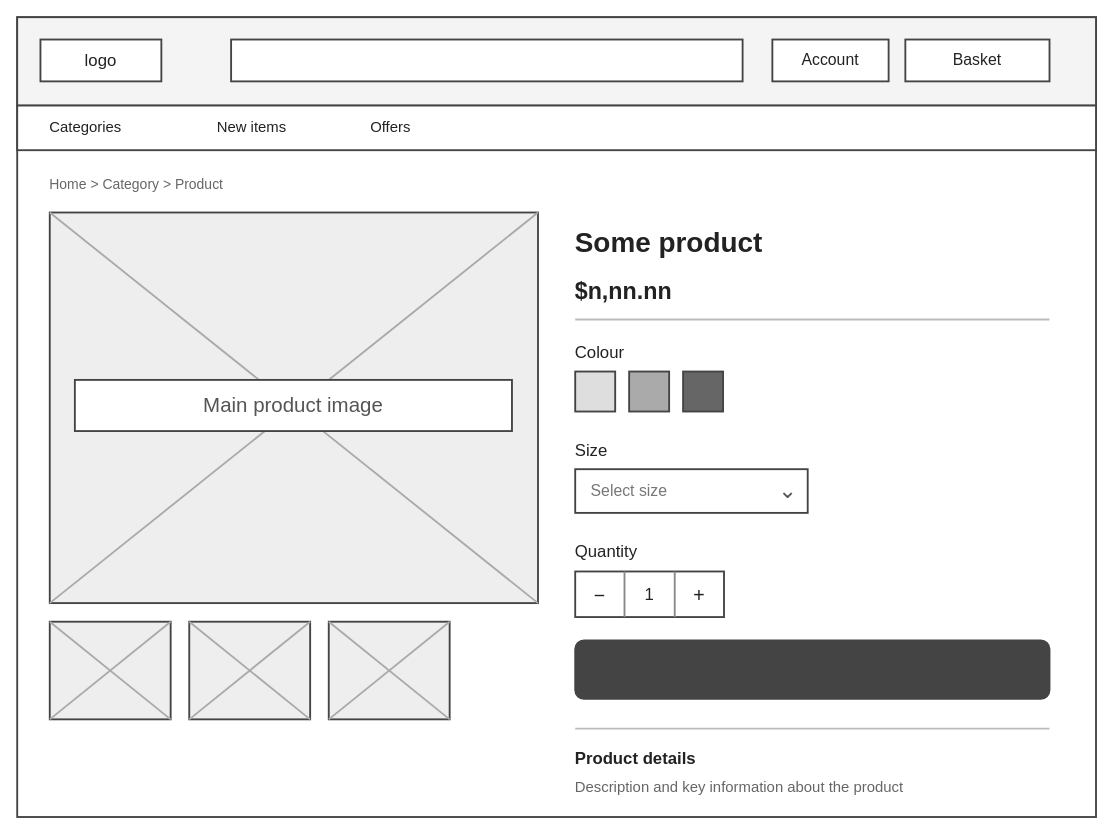
The diagram is 1112 pixels wide and 833 high, and some of its shapes have lost their labels. The box of each missing label's shape, as (x1, y1, x2, y2) in pixels:
Add to basket: (574, 639, 1050, 699)
Search products: (230, 38, 743, 82)
